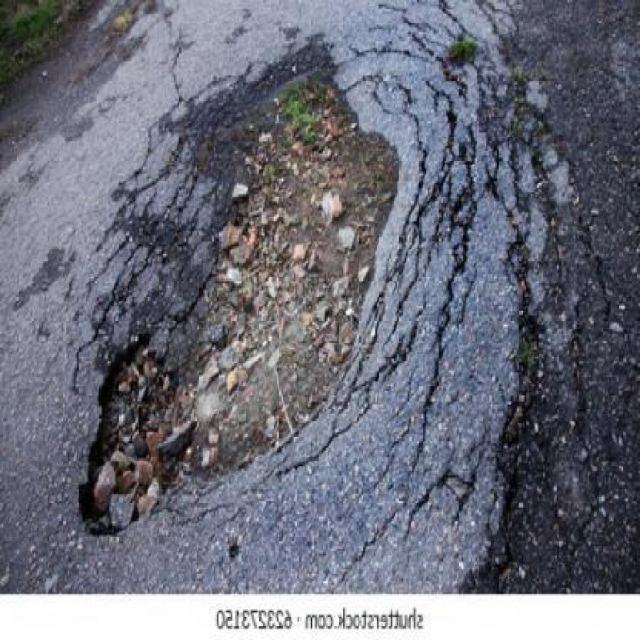pothole: (73, 46, 421, 540)
